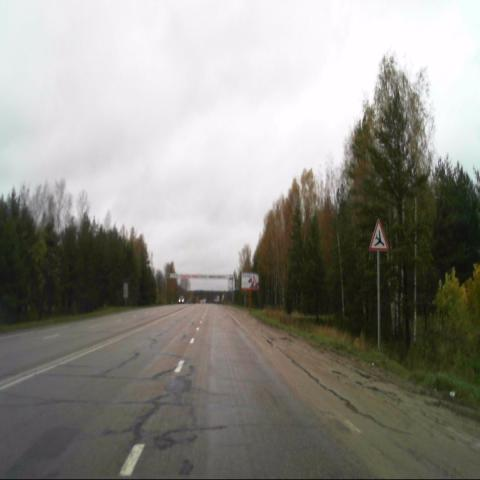1_30: (368, 217, 390, 251)
